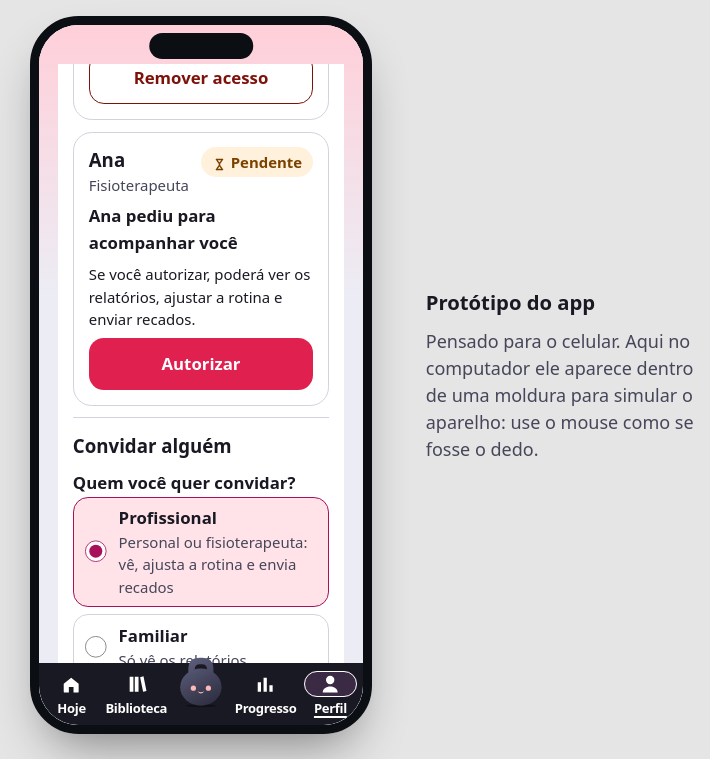
Test: acompanhantes › um pedido pendente mostra "pediu para acompanhar você" e o botão Autorizar
The width and height of the screenshot is (710, 759).
(page scrolled)
expect the text "Ana pediu para acompanhar você" is shown: met, box x1=89 y1=204 x2=238 y2=254
Step 1. Click the button with aria-label "Autorizar Ana" → click(201, 364), box x1=89 y1=338 x2=313 y2=390
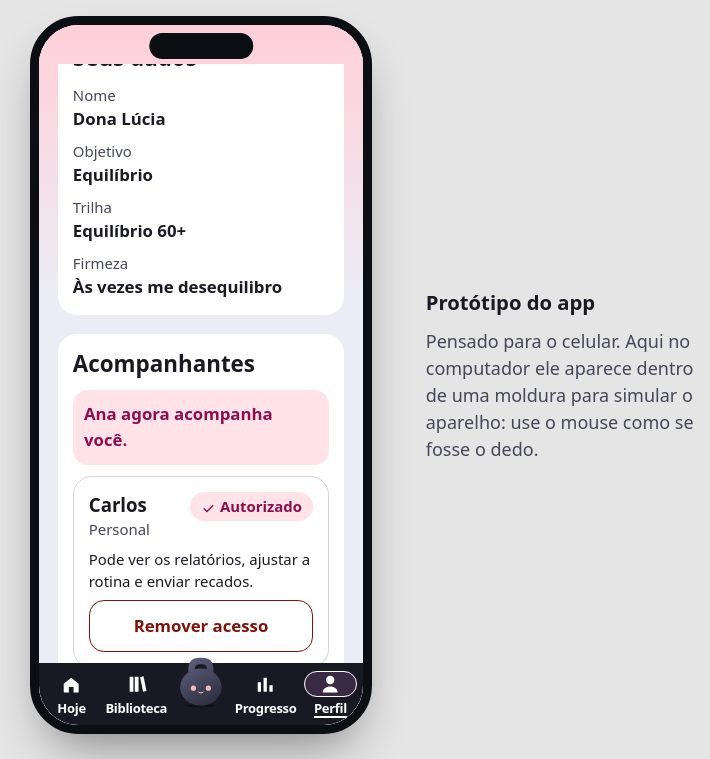
expect the text "Ana pediu para acompanhar você" is gone: met
expect the message shows "Ana agora acompanha você": met, box x1=84 y1=402 x2=273 y2=451
